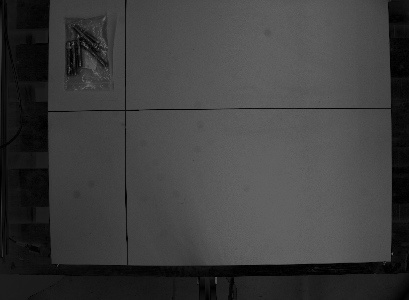t2: (60, 12, 116, 95)
